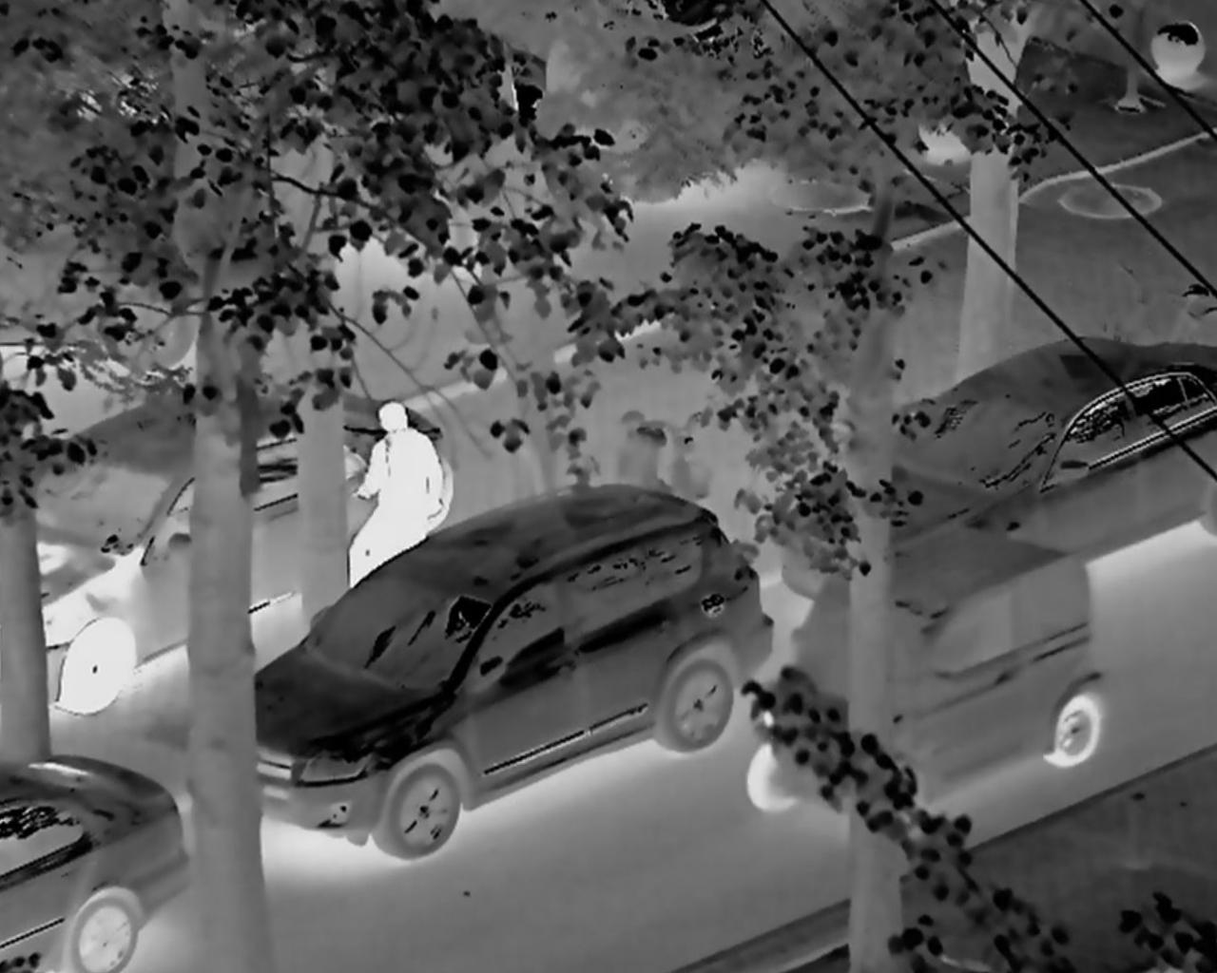person: (330, 389, 446, 597)
